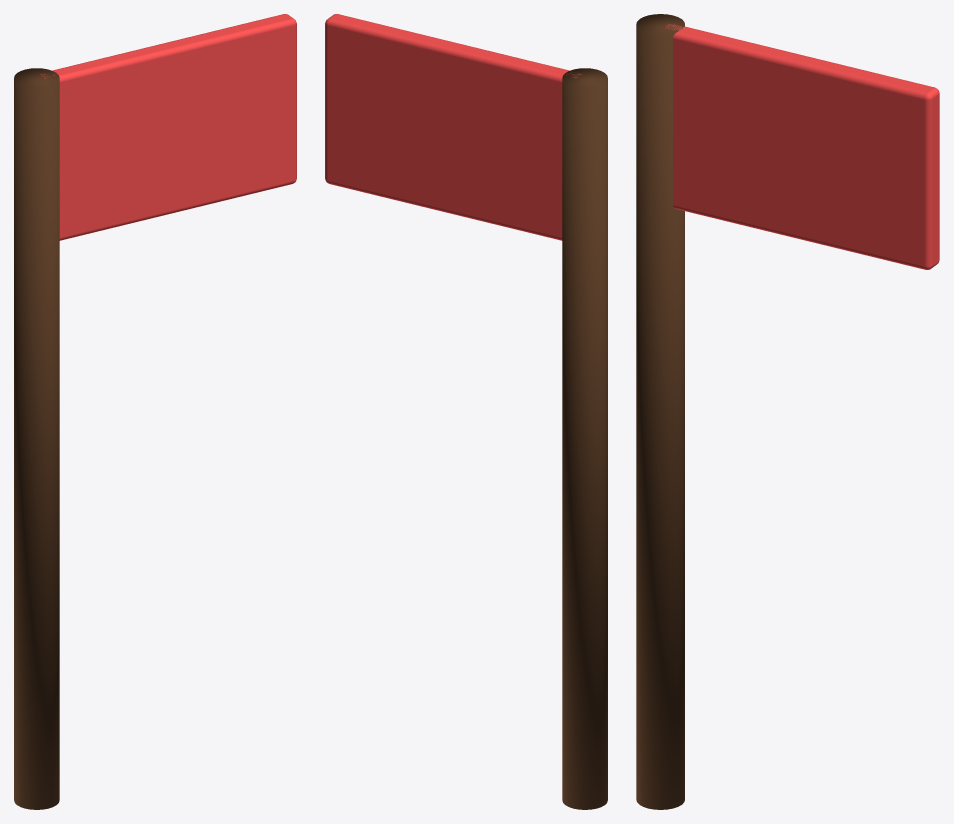
Rendered from survey_flag.glb.
3 views of the same model, side by side, from view 1: azimuth 30°, elevation 25°; view 2: azimuth 150°, elevation 25°; view 3: azimuth 330°, elevation 25° (orthographic). The views are drawn at different scales.
Visible parts, largest first — view 1: survey_flag; view 2: survey_flag; view 3: survey_flag.
Part boxes in pixels (left/top/right/bottom): survey_flag: left=14, top=14, right=296, bottom=809; survey_flag: left=325, top=14, right=607, bottom=809; survey_flag: left=636, top=14, right=939, bottom=809.
Bounding box in the file's own units: 0.28 × 0.7 × 0.04.
